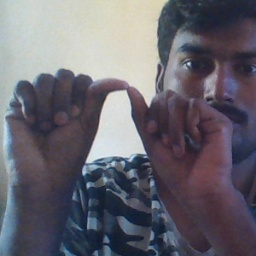A: (34, 69, 198, 170)
